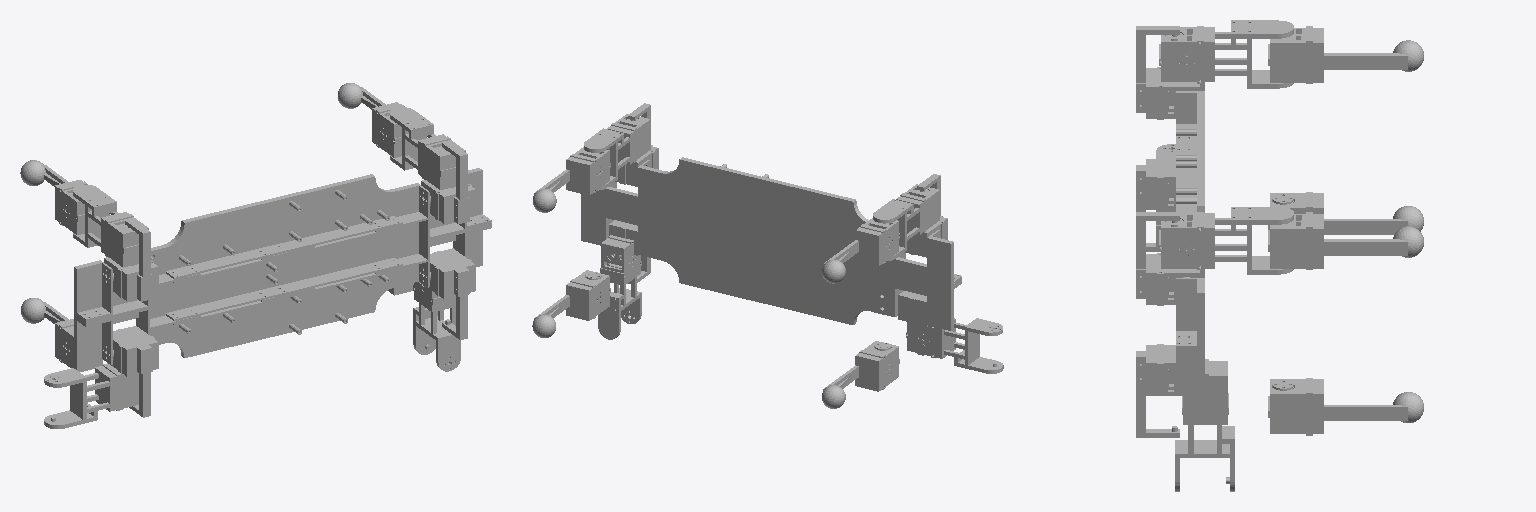
The robot description file, URDF, robot "Harold_URDF_Export":
<?xml version="1.0" encoding="utf-8"?>
<!-- This URDF was automatically created by SolidWorks to URDF Exporter! Originally created by [author] ([email redacted]) 
     Commit Version: 1.6.0-4-g7f85cfe  Build Version: 1.6.7995.38578
     For more information, please see http://wiki.ros.org/sw_urdf_exporter -->
<robot
  name="Harold_URDF_Export">
  <link
    name="Body">
    <inertial>
      <origin
        xyz="0.00050571 3.9206E-05 0.0065559"
        rpy="0 0 0" />
      <mass
        value="0.65516" />
      <inertia
        ixx="0.00044925"
        ixy="-1.5776E-19"
        ixz="5.9638E-06"
        iyy="0.00095612"
        iyz="-8.2942E-21"
        izz="0.0013524" />
    </inertial>
    <visual>
      <origin
        xyz="0 0 0"
        rpy="0 0 0" />
      <geometry>
        <mesh
          filename="package://Harold_URDF_Export/meshes/Body.STL" />
      </geometry>
      <material
        name="">
        <color
          rgba="0.75294 0.75294 0.75294 1" />
      </material>
    </visual>
    <collision>
      <origin
        xyz="0 0 0"
        rpy="0 0 0" />
      <geometry>
        <mesh
          filename="package://Harold_URDF_Export/meshes/Body.STL" />
      </geometry>
    </collision>
  </link>
  <link
    name="fl_shoulder">
    <inertial>
      <origin
        xyz="0.0226268804239232 0.0030897878880634 0.0167231448134229"
        rpy="0 0 0" />
      <mass
        value="0.0776965557993418" />
      <inertia
        ixx="2.79526765081768E-05"
        ixy="3.38551705773399E-08"
        ixz="-3.29296835159999E-07"
        iyy="2.60079742804999E-05"
        iyz="7.98874235426913E-07"
        izz="2.03318316394635E-05" />
    </inertial>
    <visual>
      <origin
        xyz="0 0 0"
        rpy="0 0 0" />
      <geometry>
        <mesh
          filename="package://Harold_URDF_Export/meshes/fl_shoulder.STL" />
      </geometry>
      <material
        name="">
        <color
          rgba="0.752941176470588 0.752941176470588 0.752941176470588 1" />
      </material>
    </visual>
    <collision>
      <origin
        xyz="0 0 0"
        rpy="0 0 0" />
      <geometry>
        <mesh
          filename="package://Harold_URDF_Export/meshes/fl_shoulder.STL" />
      </geometry>
    </collision>
  </link>
  <joint
    name="fl_shoulder_joint"
    type="revolute">
    <origin
      xyz="0.185 -0.0175 0.04805"
      rpy="1.5708 0 0" />
    <parent
      link="Body" />
    <child
      link="fl_shoulder" />
    <axis
      xyz="1 0 0" />
    <limit
      lower="0"
      upper="0"
      effort="0"
      velocity="0" />
  </joint>
  <link
    name="fl_thigh">
    <inertial>
      <origin
        xyz="-0.00156528908759812 0.0293750339010572 -0.0302869631953187"
        rpy="0 0 0" />
      <mass
        value="0.0916515025957822" />
      <inertia
        ixx="7.00348282018167E-05"
        ixy="4.3643577382981E-07"
        ixz="3.01230962502562E-06"
        iyy="6.1177847345146E-05"
        iyz="-7.35240616345447E-06"
        izz="2.10701031177544E-05" />
    </inertial>
    <visual>
      <origin
        xyz="0 0 0"
        rpy="0 0 0" />
      <geometry>
        <mesh
          filename="package://Harold_URDF_Export/meshes/fl_thigh.STL" />
      </geometry>
      <material
        name="">
        <color
          rgba="0.752941176470588 0.752941176470588 0.752941176470588 1" />
      </material>
    </visual>
    <collision>
      <origin
        xyz="0 0 0"
        rpy="0 0 0" />
      <geometry>
        <mesh
          filename="package://Harold_URDF_Export/meshes/fl_thigh.STL" />
      </geometry>
    </collision>
  </link>
  <joint
    name="fl_thigh_joint"
    type="revolute">
    <origin
      xyz="0.023 0.0101 0.011125"
      rpy="0 0 0" />
    <parent
      link="fl_shoulder" />
    <child
      link="fl_thigh" />
    <axis
      xyz="0 1 0" />
    <limit
      lower="0"
      upper="0"
      effort="0"
      velocity="0" />
  </joint>
  <link
    name="fl_calf">
    <inertial>
      <origin
        xyz="0.00237381613529569 0.022686943617349 -0.0344454986164686"
        rpy="0 0 0" />
      <mass
        value="0.0864459183664809" />
      <inertia
        ixx="0.000124573461358573"
        ixy="-3.33117687660504E-08"
        ixz="-3.59480722131373E-06"
        iyy="0.000119866124097027"
        iyz="4.24915357894337E-07"
        izz="1.48777935696697E-05" />
    </inertial>
    <visual>
      <origin
        xyz="0 0 0"
        rpy="0 0 0" />
      <geometry>
        <mesh
          filename="package://Harold_URDF_Export/meshes/fl_calf.STL" />
      </geometry>
      <material
        name="">
        <color
          rgba="0.752941176470588 0.752941176470588 0.752941176470588 1" />
      </material>
    </visual>
    <collision>
      <origin
        xyz="0 0 0"
        rpy="0 0 0" />
      <geometry>
        <mesh
          filename="package://Harold_URDF_Export/meshes/fl_calf.STL" />
      </geometry>
    </collision>
  </link>
  <joint
    name="fl_calf_joint"
    type="revolute">
    <origin
      xyz="-0.0025 0.005 -0.10288"
      rpy="0 0 0" />
    <parent
      link="fl_thigh" />
    <child
      link="fl_calf" />
    <axis
      xyz="0 1 0" />
    <limit
      lower="0"
      upper="0"
      effort="0"
      velocity="0" />
  </joint>
  <link
    name="fr_shoulder">
    <inertial>
      <origin
        xyz="0.022652843501191 -0.00308978788806342 0.016723144813423"
        rpy="0 0 0" />
      <mass
        value="0.0776965557993418" />
      <inertia
        ixx="2.79526765081768E-05"
        ixy="-3.38551705773366E-08"
        ixz="-3.2929683516E-07"
        iyy="2.60079742804999E-05"
        iyz="-7.98874235426913E-07"
        izz="2.03318316394634E-05" />
    </inertial>
    <visual>
      <origin
        xyz="0 0 0"
        rpy="0 0 0" />
      <geometry>
        <mesh
          filename="package://Harold_URDF_Export/meshes/fr_shoulder.STL" />
      </geometry>
      <material
        name="">
        <color
          rgba="0.752941176470588 0.752941176470588 0.752941176470588 1" />
      </material>
    </visual>
    <collision>
      <origin
        xyz="0 0 0"
        rpy="0 0 0" />
      <geometry>
        <mesh
          filename="package://Harold_URDF_Export/meshes/fr_shoulder.STL" />
      </geometry>
    </collision>
  </link>
  <joint
    name="fr_shoulder_joint"
    type="revolute">
    <origin
      xyz="0.185 -0.0175 -0.04795"
      rpy="1.5708 0 0" />
    <parent
      link="Body" />
    <child
      link="fr_shoulder" />
    <axis
      xyz="1 0 0" />
    <limit
      lower="0"
      upper="0"
      effort="0"
      velocity="0" />
  </joint>
  <link
    name="fr_thigh">
    <inertial>
      <origin
        xyz="-0.00156528908759815 -0.0293750339010572 -0.0302869631953187"
        rpy="0 0 0" />
      <mass
        value="0.0916515025957821" />
      <inertia
        ixx="7.00348282018167E-05"
        ixy="-4.36435773829806E-07"
        ixz="3.01230962502558E-06"
        iyy="6.1177847345146E-05"
        iyz="7.35240616345448E-06"
        izz="2.10701031177544E-05" />
    </inertial>
    <visual>
      <origin
        xyz="0 0 0"
        rpy="0 0 0" />
      <geometry>
        <mesh
          filename="package://Harold_URDF_Export/meshes/fr_thigh.STL" />
      </geometry>
      <material
        name="">
        <color
          rgba="0.752941176470588 0.752941176470588 0.752941176470588 1" />
      </material>
    </visual>
    <collision>
      <origin
        xyz="0 0 0"
        rpy="0 0 0" />
      <geometry>
        <mesh
          filename="package://Harold_URDF_Export/meshes/fr_thigh.STL" />
      </geometry>
    </collision>
  </link>
  <joint
    name="fr_thigh_joint"
    type="revolute">
    <origin
      xyz="0.0232 -0.0101 0.011125"
      rpy="0 0 0" />
    <parent
      link="fr_shoulder" />
    <child
      link="fr_thigh" />
    <axis
      xyz="0 1 0" />
    <limit
      lower="0"
      upper="0"
      effort="0"
      velocity="0" />
  </joint>
  <link
    name="fr_calf">
    <inertial>
      <origin
        xyz="0.00237381613529589 -0.0226869436158008 -0.0344454986164681"
        rpy="0 0 0" />
      <mass
        value="0.0864459183664809" />
      <inertia
        ixx="0.000124573461358559"
        ixy="3.33117693448146E-08"
        ixz="-3.59480722131376E-06"
        iyy="0.000119866124097028"
        iyz="-4.24915350292352E-07"
        izz="1.48777935696553E-05" />
    </inertial>
    <visual>
      <origin
        xyz="0 0 0"
        rpy="0 0 0" />
      <geometry>
        <mesh
          filename="package://Harold_URDF_Export/meshes/fr_calf.STL" />
      </geometry>
      <material
        name="">
        <color
          rgba="0.752941176470588 0.752941176470588 0.752941176470588 1" />
      </material>
    </visual>
    <collision>
      <origin
        xyz="0 0 0"
        rpy="0 0 0" />
      <geometry>
        <mesh
          filename="package://Harold_URDF_Export/meshes/fr_calf.STL" />
      </geometry>
    </collision>
  </link>
  <joint
    name="fr_calf_joint"
    type="revolute">
    <origin
      xyz="-0.0025 -0.005 -0.10288"
      rpy="0 0 0" />
    <parent
      link="fr_thigh" />
    <child
      link="fr_calf" />
    <axis
      xyz="0 1 0" />
    <limit
      lower="0"
      upper="0"
      effort="0"
      velocity="0" />
  </joint>
  <link
    name="bl_shoulder">
    <inertial>
      <origin
        xyz="-0.0229731195760767 0.00308978788806345 0.016723144813423"
        rpy="0 0 0" />
      <mass
        value="0.0776965557993418" />
      <inertia
        ixx="2.79526765081768E-05"
        ixy="3.38551705773394E-08"
        ixz="-3.29296835160002E-07"
        iyy="2.60079742804999E-05"
        iyz="7.98874235426911E-07"
        izz="2.03318316394635E-05" />
    </inertial>
    <visual>
      <origin
        xyz="0 0 0"
        rpy="0 0 0" />
      <geometry>
        <mesh
          filename="package://Harold_URDF_Export/meshes/bl_shoulder.STL" />
      </geometry>
      <material
        name="">
        <color
          rgba="0.752941176470588 0.752941176470588 0.752941176470588 1" />
      </material>
    </visual>
    <collision>
      <origin
        xyz="0 0 0"
        rpy="0 0 0" />
      <geometry>
        <mesh
          filename="package://Harold_URDF_Export/meshes/bl_shoulder.STL" />
      </geometry>
    </collision>
  </link>
  <joint
    name="bl_shoulder_joint"
    type="revolute">
    <origin
      xyz="-0.1854 -0.0175 0.048"
      rpy="1.5708 0 0" />
    <parent
      link="Body" />
    <child
      link="bl_shoulder" />
    <axis
      xyz="1 0 0" />
    <limit
      lower="0"
      upper="0"
      effort="0"
      velocity="0" />
  </joint>
  <link
    name="bl_thigh">
    <inertial>
      <origin
        xyz="-0.0015652890875982 0.0293750339010572 -0.0302869631953187"
        rpy="0 0 0" />
      <mass
        value="0.0916515025957822" />
      <inertia
        ixx="7.00348282018167E-05"
        ixy="4.3643577382981E-07"
        ixz="3.01230962502562E-06"
        iyy="6.1177847345146E-05"
        iyz="-7.35240616345448E-06"
        izz="2.10701031177544E-05" />
    </inertial>
    <visual>
      <origin
        xyz="0 0 0"
        rpy="0 0 0" />
      <geometry>
        <mesh
          filename="package://Harold_URDF_Export/meshes/bl_thigh.STL" />
      </geometry>
      <material
        name="">
        <color
          rgba="0.752941176470588 0.752941176470588 0.752941176470588 1" />
      </material>
    </visual>
    <collision>
      <origin
        xyz="0 0 0"
        rpy="0 0 0" />
      <geometry>
        <mesh
          filename="package://Harold_URDF_Export/meshes/bl_thigh.STL" />
      </geometry>
    </collision>
  </link>
  <joint
    name="bl_thigh_joint"
    type="revolute">
    <origin
      xyz="-0.0226 0.0101 0.011125"
      rpy="0 0 0" />
    <parent
      link="bl_shoulder" />
    <child
      link="bl_thigh" />
    <axis
      xyz="0 1 0" />
    <limit
      lower="0"
      upper="0"
      effort="0"
      velocity="0" />
  </joint>
  <link
    name="bl_calf">
    <inertial>
      <origin
        xyz="0.00237381613529564 0.022686943617349 -0.0344454986164682"
        rpy="0 0 0" />
      <mass
        value="0.0864459183664809" />
      <inertia
        ixx="0.000124573461358573"
        ixy="-3.33117687660497E-08"
        ixz="-3.59480722131376E-06"
        iyy="0.000119866124097027"
        iyz="4.24915357894329E-07"
        izz="1.48777935696697E-05" />
    </inertial>
    <visual>
      <origin
        xyz="0 0 0"
        rpy="0 0 0" />
      <geometry>
        <mesh
          filename="package://Harold_URDF_Export/meshes/bl_calf.STL" />
      </geometry>
      <material
        name="">
        <color
          rgba="0.752941176470588 0.752941176470588 0.752941176470588 1" />
      </material>
    </visual>
    <collision>
      <origin
        xyz="0 0 0"
        rpy="0 0 0" />
      <geometry>
        <mesh
          filename="package://Harold_URDF_Export/meshes/bl_calf.STL" />
      </geometry>
    </collision>
  </link>
  <joint
    name="bl_calf_joint"
    type="revolute">
    <origin
      xyz="-0.0025 0.005 -0.10288"
      rpy="0 0 0" />
    <parent
      link="bl_thigh" />
    <child
      link="bl_calf" />
    <axis
      xyz="0 1 0" />
    <limit
      lower="0"
      upper="0"
      effort="0"
      velocity="0" />
  </joint>
  <link
    name="br_shoulder">
    <inertial>
      <origin
        xyz="-0.022947156498809 -0.00308978788806343 0.016723144813423"
        rpy="0 0 0" />
      <mass
        value="0.0776965557993418" />
      <inertia
        ixx="2.79526765081768E-05"
        ixy="-3.38551705773368E-08"
        ixz="-3.2929683516E-07"
        iyy="2.60079742804999E-05"
        iyz="-7.9887423542691E-07"
        izz="2.03318316394635E-05" />
    </inertial>
    <visual>
      <origin
        xyz="0 0 0"
        rpy="0 0 0" />
      <geometry>
        <mesh
          filename="package://Harold_URDF_Export/meshes/br_shoulder.STL" />
      </geometry>
      <material
        name="">
        <color
          rgba="0.752941176470588 0.752941176470588 0.752941176470588 1" />
      </material>
    </visual>
    <collision>
      <origin
        xyz="0 0 0"
        rpy="0 0 0" />
      <geometry>
        <mesh
          filename="package://Harold_URDF_Export/meshes/br_shoulder.STL" />
      </geometry>
    </collision>
  </link>
  <joint
    name="br_shoulder_joint"
    type="revolute">
    <origin
      xyz="-0.1854 -0.0175 -0.048"
      rpy="1.5708 0 0" />
    <parent
      link="Body" />
    <child
      link="br_shoulder" />
    <axis
      xyz="1 0 0" />
    <limit
      lower="0"
      upper="0"
      effort="0"
      velocity="0" />
  </joint>
  <link
    name="br_thigh">
    <inertial>
      <origin
        xyz="-0.00156528908759812 -0.0293750339010572 -0.0302869631953187"
        rpy="0 0 0" />
      <mass
        value="0.0916515025957821" />
      <inertia
        ixx="7.00348282018167E-05"
        ixy="-4.36435773829806E-07"
        ixz="3.01230962502559E-06"
        iyy="6.11778473451459E-05"
        iyz="7.35240616345447E-06"
        izz="2.10701031177544E-05" />
    </inertial>
    <visual>
      <origin
        xyz="0 0 0"
        rpy="0 0 0" />
      <geometry>
        <mesh
          filename="package://Harold_URDF_Export/meshes/br_thigh.STL" />
      </geometry>
      <material
        name="">
        <color
          rgba="0.752941176470588 0.752941176470588 0.752941176470588 1" />
      </material>
    </visual>
    <collision>
      <origin
        xyz="0 0 0"
        rpy="0 0 0" />
      <geometry>
        <mesh
          filename="package://Harold_URDF_Export/meshes/br_thigh.STL" />
      </geometry>
    </collision>
  </link>
  <joint
    name="br_thigh_joint"
    type="revolute">
    <origin
      xyz="-0.0224 -0.0101 0.011125"
      rpy="0 0 0" />
    <parent
      link="br_shoulder" />
    <child
      link="br_thigh" />
    <axis
      xyz="0 1 0" />
    <limit
      lower="0"
      upper="0"
      effort="0"
      velocity="0" />
  </joint>
  <link
    name="br_calf">
    <inertial>
      <origin
        xyz="0.00237381613529586 -0.0226869436158008 -0.0344454986164686"
        rpy="0 0 0" />
      <mass
        value="0.0864459183664809" />
      <inertia
        ixx="0.000124573461358559"
        ixy="3.33117693448149E-08"
        ixz="-3.59480722131376E-06"
        iyy="0.000119866124097028"
        iyz="-4.24915350292363E-07"
        izz="1.48777935696553E-05" />
    </inertial>
    <visual>
      <origin
        xyz="0 0 0"
        rpy="0 0 0" />
      <geometry>
        <mesh
          filename="package://Harold_URDF_Export/meshes/br_calf.STL" />
      </geometry>
      <material
        name="">
        <color
          rgba="0.752941176470588 0.752941176470588 0.752941176470588 1" />
      </material>
    </visual>
    <collision>
      <origin
        xyz="0 0 0"
        rpy="0 0 0" />
      <geometry>
        <mesh
          filename="package://Harold_URDF_Export/meshes/br_calf.STL" />
      </geometry>
    </collision>
  </link>
  <joint
    name="br_calf_joint"
    type="revolute">
    <origin
      xyz="-0.0025 -0.005 -0.10288"
      rpy="0 0 0" />
    <parent
      link="br_thigh" />
    <child
      link="br_calf" />
    <axis
      xyz="0 1 0" />
    <limit
      lower="0"
      upper="0"
      effort="0"
      velocity="0" />
  </joint>
</robot>

--- Facts derived from the render (not from the file) ---
Views: 3 orthographic renders of the robot side by side, from view 1: azimuth 30°, elevation 25°; view 2: azimuth 150°, elevation 25°; view 3: azimuth 270°, elevation 25°.
Model Harold_URDF_Export with 13 links and 12 joints (12 revolute), rooted at Body, posed every joint at zero.
Links seen in each view (by area): view 1: Body, br_thigh, fl_thigh, bl_thigh, fr_thigh, fr_shoulder, br_shoulder, fl_shoulder, bl_shoulder, bl_calf, fl_calf, br_calf; view 2: Body, fr_thigh, br_thigh, br_calf, fr_calf, fl_calf, bl_calf, fl_thigh, bl_thigh, bl_shoulder, fl_shoulder, br_shoulder (+1 smaller); view 3: Body, bl_thigh, fl_thigh, fr_calf, bl_calf, fl_calf, fr_thigh, fr_shoulder, bl_shoulder, fl_shoulder, br_calf, br_shoulder.
Boxes of the visible links, x1,y1,x2,y2 form: Body: (74, 168, 491, 364); br_thigh: (44, 363, 138, 428); fl_thigh: (390, 107, 465, 189); bl_thigh: (73, 185, 148, 267); fr_thigh: (413, 282, 460, 371); fr_shoulder: (429, 248, 475, 339); br_shoulder: (111, 326, 158, 417); fl_shoulder: (421, 141, 475, 223); bl_shoulder: (104, 218, 158, 301); bl_calf: (20, 160, 87, 234); fl_calf: (338, 83, 404, 157); br_calf: (21, 298, 102, 371); Body: (581, 157, 961, 330); fr_thigh: (598, 235, 641, 339); br_thigh: (906, 318, 1003, 373); br_calf: (822, 341, 899, 408); fr_calf: (532, 270, 610, 337); fl_calf: (533, 147, 610, 212); bl_calf: (822, 218, 899, 283); fl_thigh: (584, 114, 650, 190); bl_thigh: (873, 184, 940, 260); bl_shoulder: (905, 174, 947, 257); fl_shoulder: (615, 103, 658, 186); br_shoulder: (898, 291, 927, 355); Body: (1176, 82, 1204, 407); bl_thigh: (1159, 20, 1293, 88); fl_thigh: (1159, 207, 1293, 274); fr_calf: (1268, 378, 1423, 435); bl_calf: (1268, 26, 1423, 83); fl_calf: (1268, 212, 1423, 269); fr_thigh: (1175, 359, 1234, 491); fr_shoulder: (1136, 344, 1196, 437); bl_shoulder: (1136, 26, 1201, 119); fl_shoulder: (1136, 212, 1201, 305); br_calf: (1268, 192, 1423, 234); br_shoulder: (1136, 158, 1175, 251).
Size in the robot's own frame: 0.5867 by 0.2724 by 0.2865 metres.
13 mesh visuals loaded from 13 distinct referenced files (13 binary STL).
